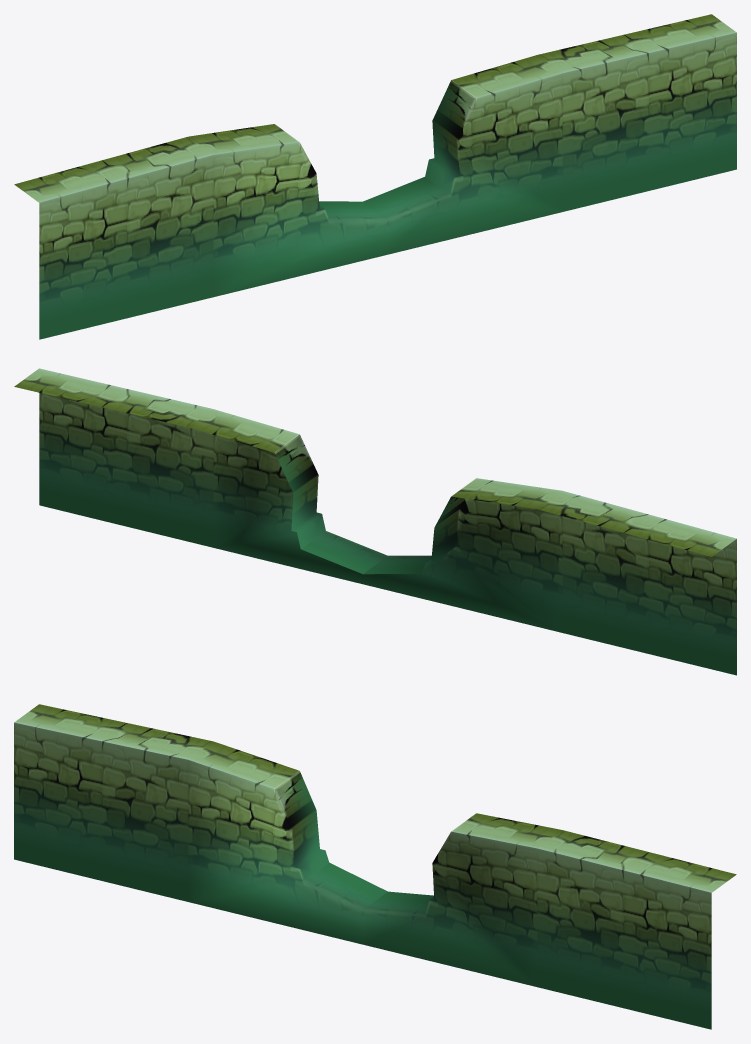
3 renders of one model, top to bottom at view 1: azimuth 30°, elevation 25°; view 2: azimuth 150°, elevation 25°; view 3: azimuth 330°, elevation 25°, orthographic.
Parts seen in each view (by area): view 1: Box020; view 2: Box020; view 3: Box020.
Part boxes in pixels (x1,y1,x2,y2): Box020: [14, 14, 736, 339]; Box020: [14, 368, 736, 675]; Box020: [14, 704, 736, 1029].
Size of the model in its own units: 1600 by 100 by 312.
